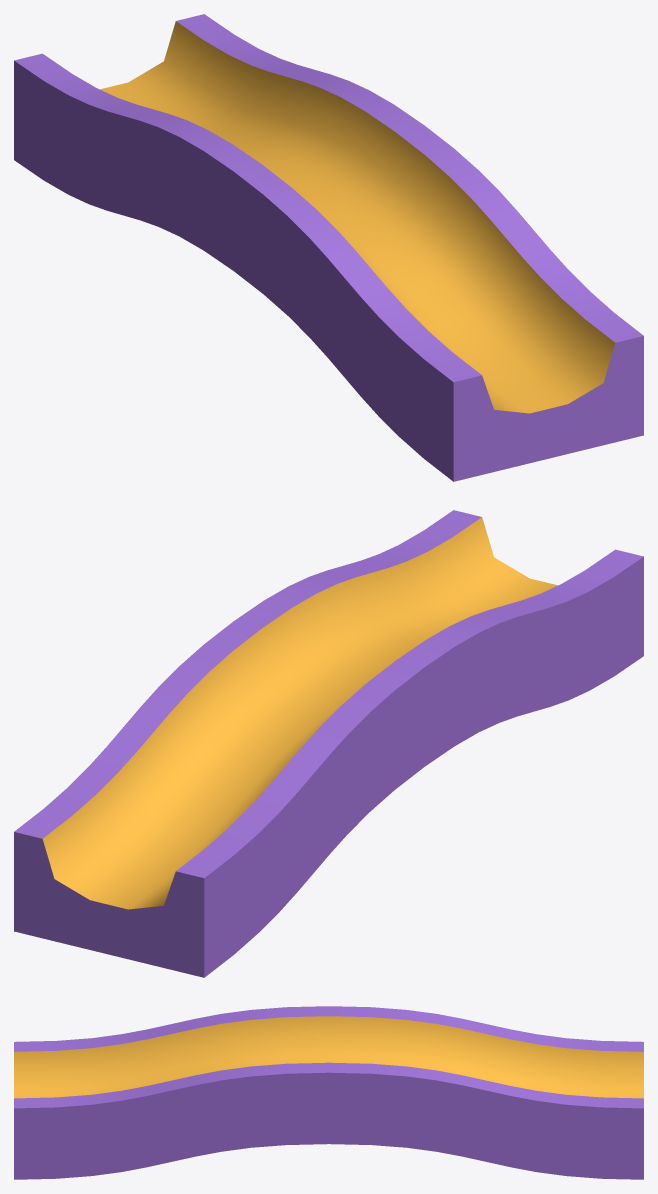
The model's file is bump-a.glb.
3 views of the same model, one above another, from view 1: azimuth 30°, elevation 25°; view 2: azimuth 150°, elevation 25°; view 3: azimuth 270°, elevation 25° (orthographic). The views are drawn at different scales.
Visible parts, largest first — view 1: bump-a; view 2: bump-a; view 3: bump-a.
Part boxes in pixels (bbox=[...]): bump-a: bbox=[14, 14, 643, 481]; bump-a: bbox=[14, 510, 643, 977]; bump-a: bbox=[14, 1006, 643, 1179].
Bounding box in the file's own units: 1 × 0.75 × 4.
1 material, 1 textured.
